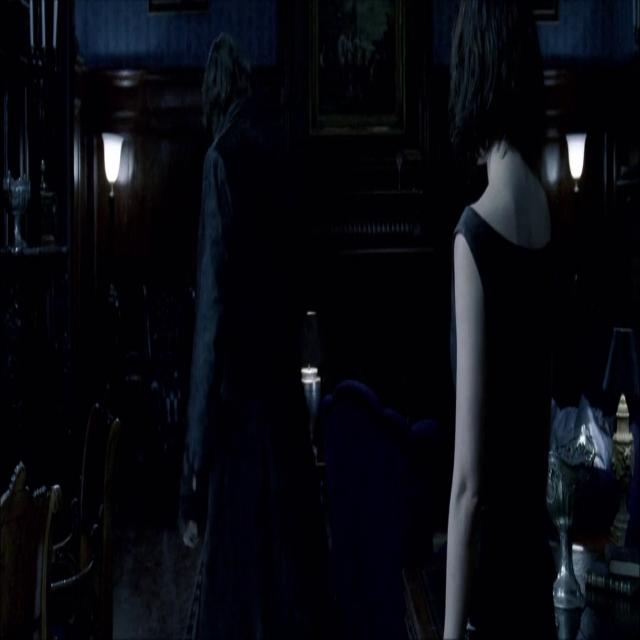People: (193, 13, 321, 640), (451, 0, 558, 640)
Table: (0, 0, 83, 428)
chair: (320, 347, 438, 640), (41, 390, 141, 640), (0, 426, 60, 640)
